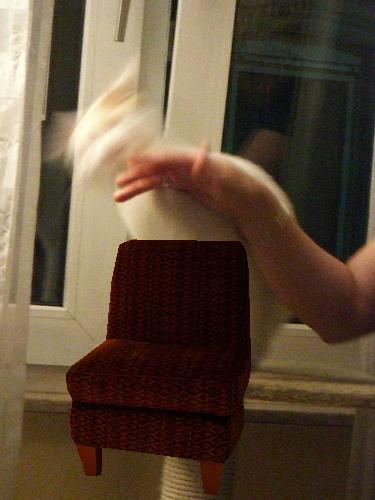tampered: (67, 240, 251, 495)
